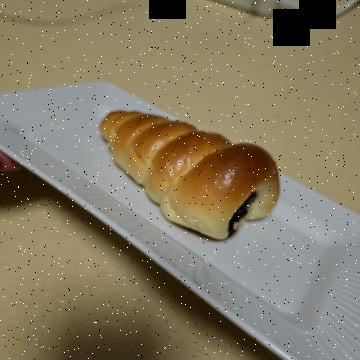cream horn: (95, 66, 257, 262)
